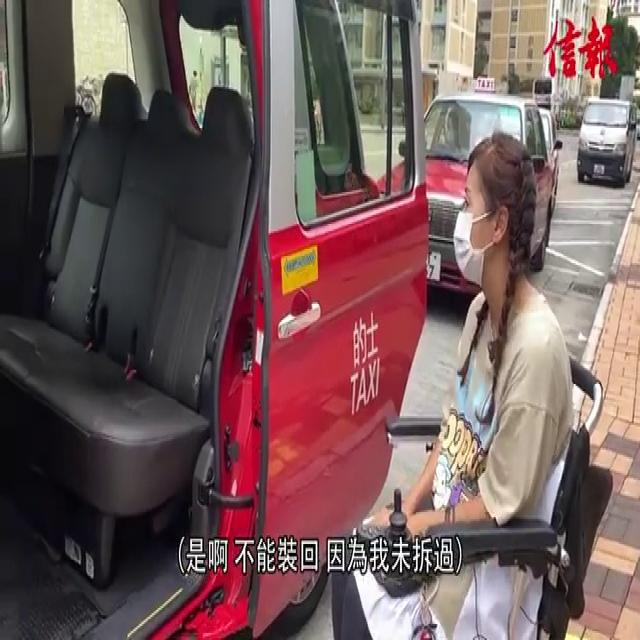wheelchairs: (345, 318, 617, 640)
